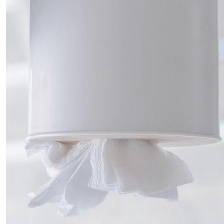plastic_box: (20, 0, 223, 156)
tissue: (19, 130, 199, 221)
